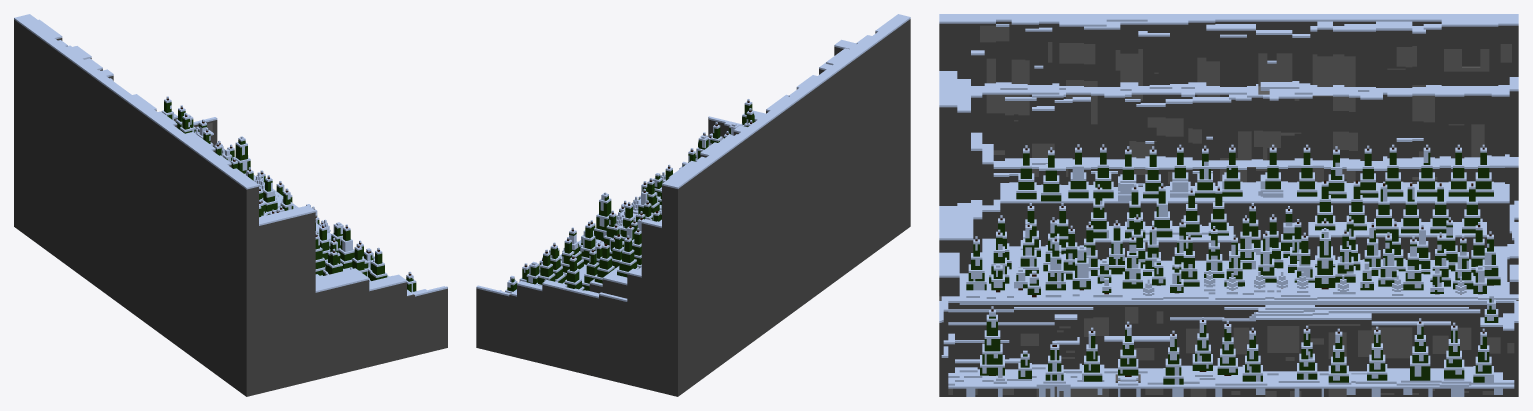
File: Wall_3.obj
The picture shows the model from 3 angles, left to right: view 1: azimuth 30°, elevation 25°; view 2: azimuth 150°, elevation 25°; view 3: azimuth 270°, elevation 25°; orthographic projection. The views are drawn at different scales.
Bounding box in the file's own units: 12.8 × 12.7 × 25.6.
1 material, 1 textured.
